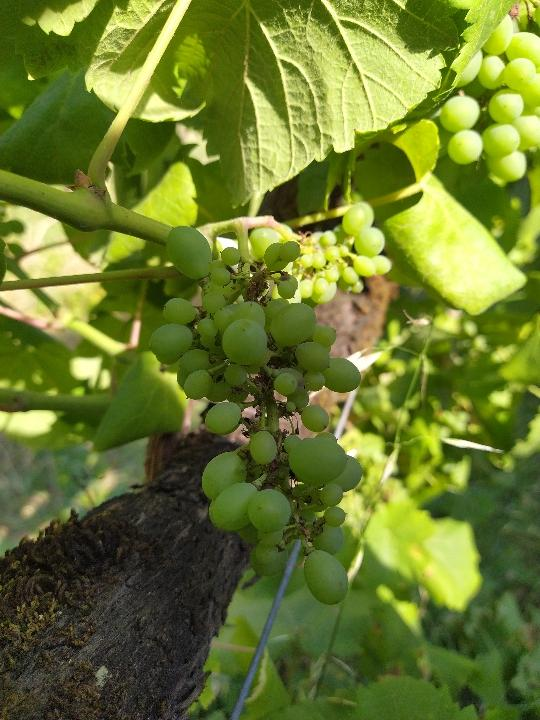grape: (146, 199, 368, 610), (293, 193, 397, 305)
